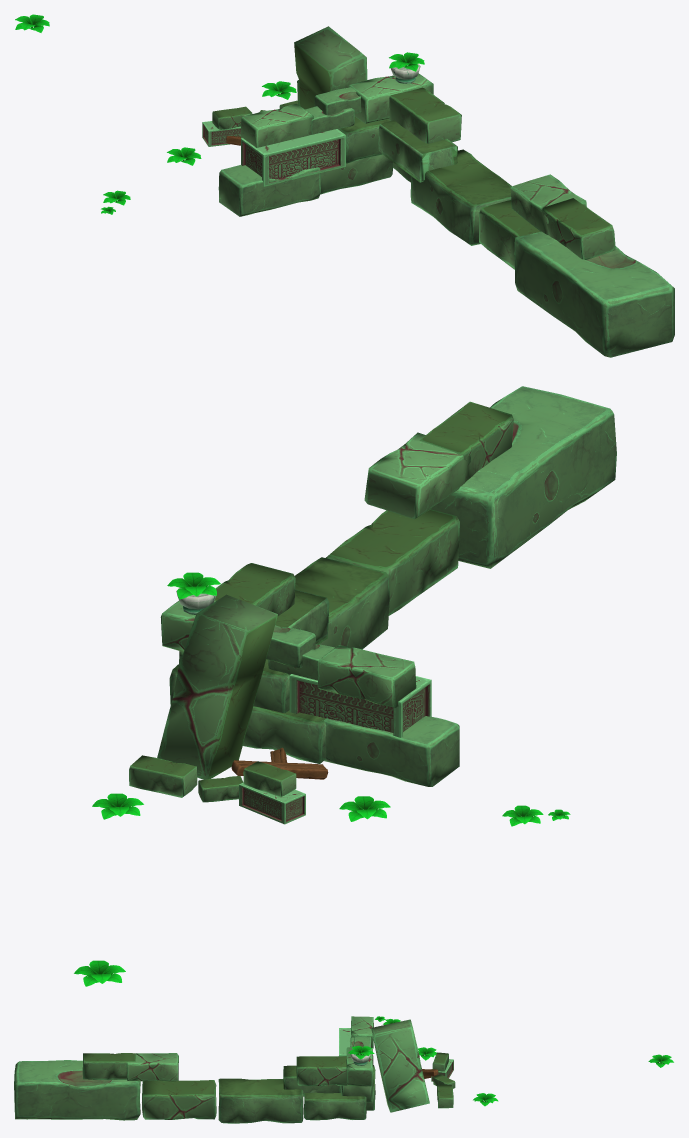
Rendered from deco_down_left.obj.
3 renders of one model, top to bottom at view 1: azimuth 30°, elevation 25°; view 2: azimuth 150°, elevation 25°; view 3: azimuth 270°, elevation 25°, orthographic. The views are drawn at different scales.
Visible parts, largest first — view 1: brick2_low.027, brick2_low.024, brick3_low.064, brick.006, brick2_low.028, brick3_low.109, brick3_low.047, brick3_low.098, brick3_low.046, brick3_low.032, brick3_low.108, brick3_low.045 (+6 smaller); view 2: brick2_low.027, brick3_low.064, brick3_low.032, brick2_low.028, brick3_low.108, brick2_low.024, brick.006, brick3_low.046, brick3_low.109, brick2_low.011, brick3_low.047, brick3_low.028 (+10 smaller); view 3: brick2_low.027, brick3_low.064, brick2_low.024, brick3_low.032, brick2_low.013, brick3_low.047, brick3_low.108, brick3_low.109, brick3_low.045, brick3_low.098, brick3_low.046, brick2_low.012 (+8 smaller).
Part boxes in pixels (<box>): brick2_low.027: <box>514,231,674,357</box>; brick2_low.024: <box>410,149,511,245</box>; brick3_low.064: <box>294,26,367,109</box>; brick.006: <box>241,129,345,186</box>; brick2_low.028: <box>218,165,320,216</box>; brick3_low.109: <box>541,198,615,259</box>; brick3_low.047: <box>388,87,461,143</box>; brick3_low.098: <box>378,120,457,182</box>; brick3_low.046: <box>241,103,313,147</box>; brick3_low.032: <box>479,200,540,269</box>; brick3_low.108: <box>510,174,586,234</box>; brick3_low.045: <box>348,73,433,123</box>; brick2_low.027: <box>431,386,616,568</box>; brick3_low.064: <box>157,594,277,779</box>; brick3_low.032: <box>326,509,459,615</box>; brick2_low.028: <box>323,716,459,786</box>; brick3_low.108: <box>364,432,470,519</box>; brick2_low.024: <box>294,557,389,649</box>; brick.006: <box>289,674,431,737</box>; brick3_low.046: <box>317,645,416,707</box>; brick3_low.109: <box>419,401,513,480</box>; brick2_low.011: <box>242,706,326,763</box>; brick3_low.047: <box>214,563,295,615</box>; brick3_low.028: <box>129,755,197,797</box>; brick2_low.027: <box>14,1060,140,1120</box>; brick3_low.064: <box>371,1019,429,1112</box>; brick2_low.024: <box>218,1078,303,1123</box>; brick3_low.032: <box>142,1080,216,1119</box>; brick2_low.013: <box>304,1092,366,1120</box>; brick3_low.047: <box>296,1056,347,1085</box>; brick3_low.108: <box>126,1053,178,1081</box>; brick3_low.109: <box>82,1053,135,1079</box>; brick3_low.045: <box>346,1047,373,1086</box>; brick3_low.098: <box>283,1065,341,1096</box>; brick3_low.046: <box>350,1016,373,1048</box>; brick2_low.012: <box>341,1079,373,1102</box>.
Bounding box in the file's own units: 562 × 209 × 1532.
